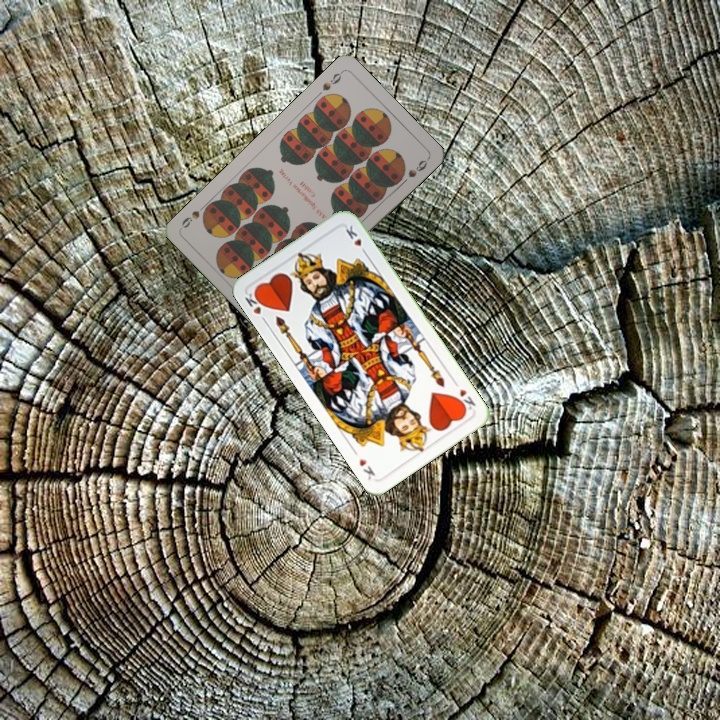HK: (241, 286, 269, 326), (452, 385, 478, 414)
S9: (318, 67, 345, 93)
